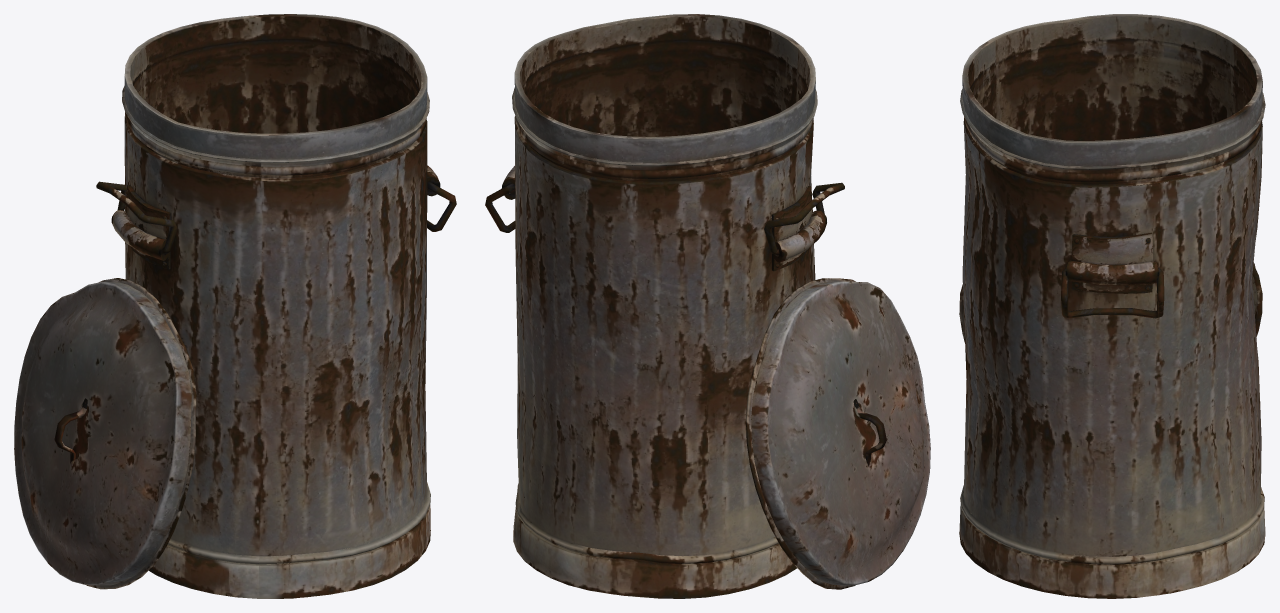
The model's file is trash_can.glb.
3 renders of one model, left to right at view 1: azimuth 30°, elevation 25°; view 2: azimuth 150°, elevation 25°; view 3: azimuth 270°, elevation 25°, orthographic.
Visible parts, largest first — view 1: trash_can; view 2: trash_can; view 3: trash_can.
Part boxes in pixels (x1,y1,x2,y2): trash_can: [14, 14, 456, 598]; trash_can: [485, 14, 930, 598]; trash_can: [959, 14, 1265, 598].
Size of the model in its own units: 0.7732 by 0.9062 by 0.5484.
Materials: 2 (2 with a texture image).
